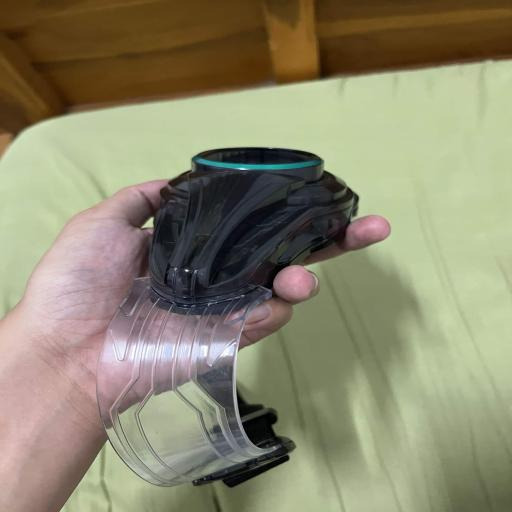zeztzdriver: (97, 148, 358, 487)
